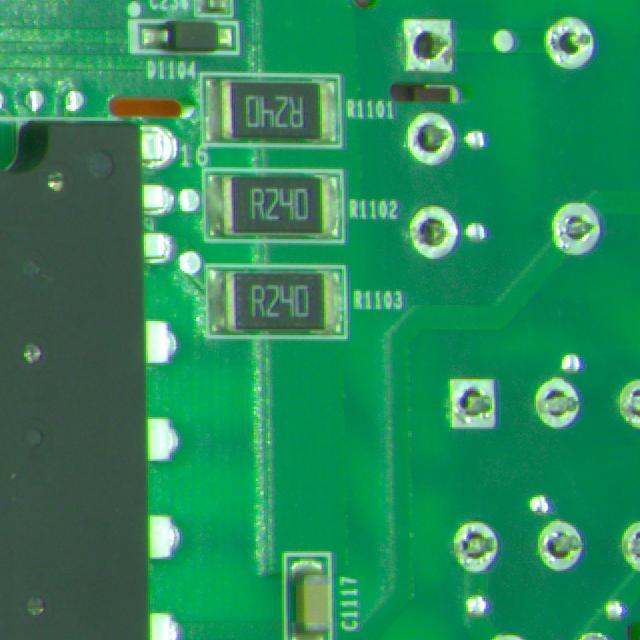Insufficient solder: (443, 370, 503, 440), (398, 12, 458, 80), (539, 12, 597, 76), (446, 514, 505, 576), (548, 195, 605, 259), (407, 200, 460, 265), (402, 107, 457, 168), (529, 369, 585, 427), (535, 523, 584, 570), (614, 377, 640, 427)
